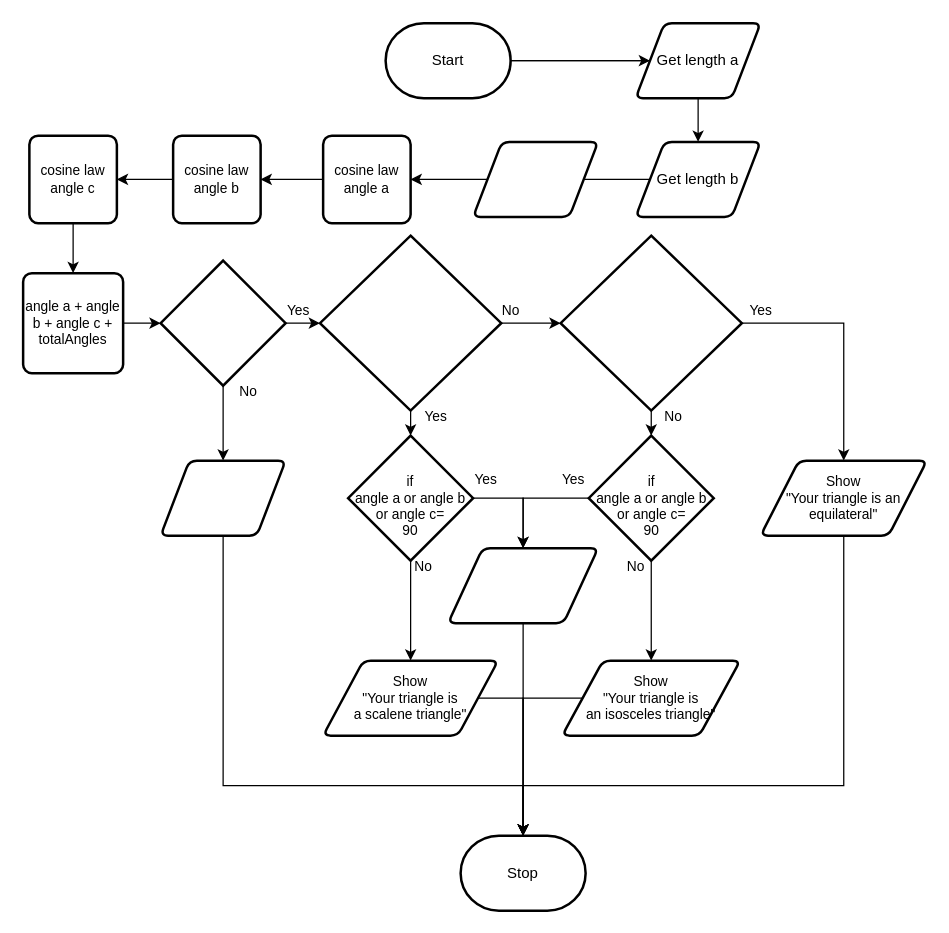
Some shapes in this 949 by 933 pixel diagram are drawn without their labels. The centre of each missing label's shape, as x and y in pixels:
Get length c: [535,179]
if angle a = angle b angle a = angle c: [650,322]
if angle a ≠ angle b angle a ≠ angle c angle b ≠ angle c: [410,322]
if totalAngles = 180: [222,322]
Show "Please enter a proper triangle": [222,497]
Show "Your triangle is a right triangle": [522,585]
